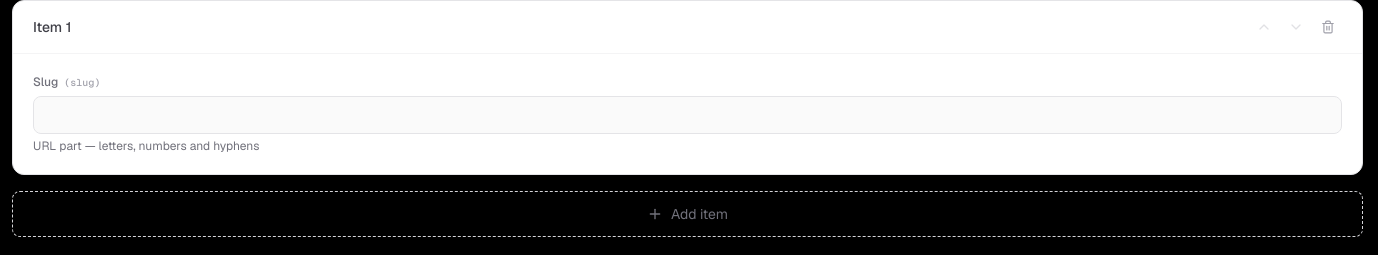
Test: RepeaterEditor slug fields › renders a plain input that slugifies on blur (richText=false)
The width and height of the screenshot is (1378, 255).
expect the text "URL part — letters, numbers and hyphens" is shown: met, box [33, 138, 259, 154]
Click the field.
click(688, 115)  # box [33, 96, 1342, 134]
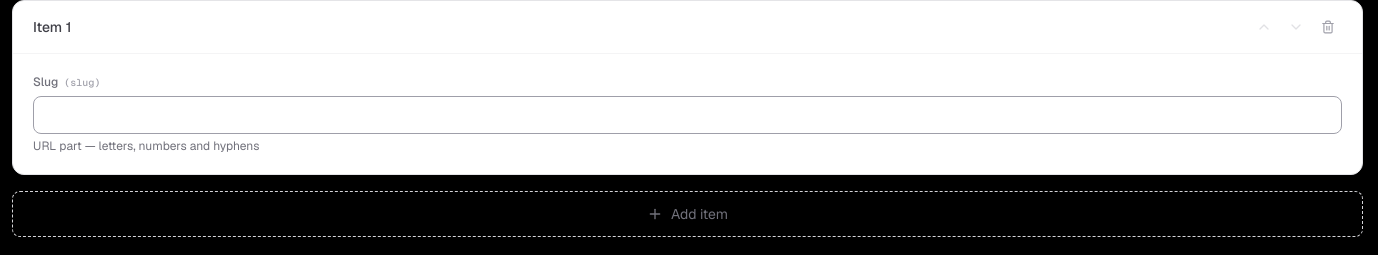
Type keys "Reparații Laptop & PC"
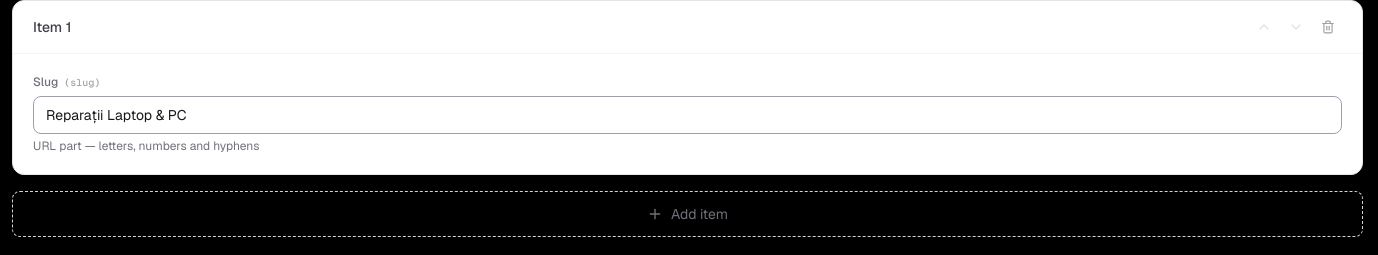
Press Tab
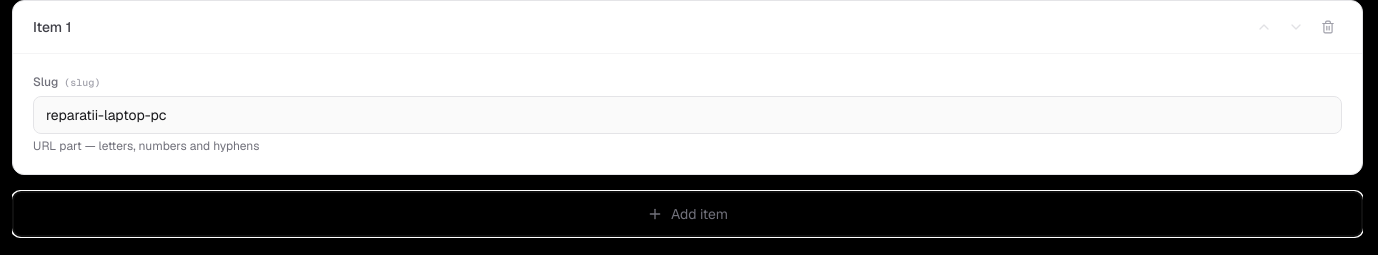
expect the field holds "reparatii-laptop-pc": met, box [33, 96, 1342, 134]
